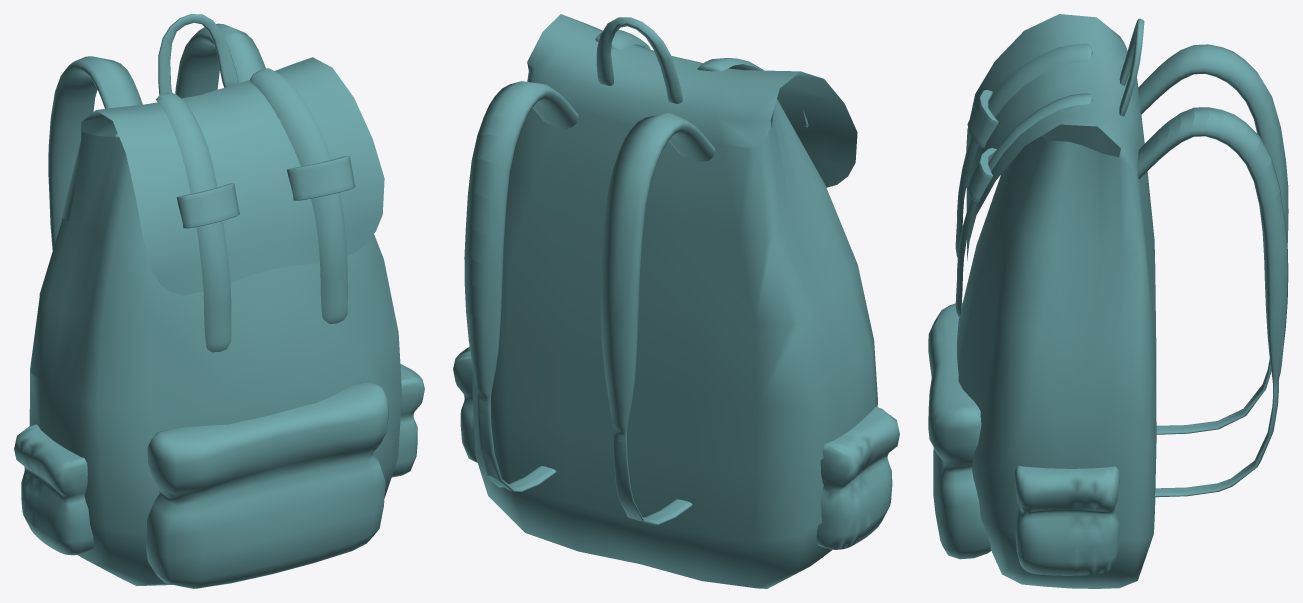
The model's file is Bag_Mission.fbx.
3 views of the same model, side by side, from view 1: azimuth 30°, elevation 25°; view 2: azimuth 150°, elevation 25°; view 3: azimuth 270°, elevation 25° (orthographic). The views are drawn at different scales.
Visible parts, largest first — view 1: Bag_Mission; view 2: Bag_Mission; view 3: Bag_Mission.
Boxes of the visible parts, x1=… form: Bag_Mission: x1=14, y1=14, x2=424, y2=588; Bag_Mission: x1=453, y1=14, x2=899, y2=588; Bag_Mission: x1=928, y1=14, x2=1288, y2=588.
Bounding box in the file's own units: 31.61 × 41.84 × 25.99.
